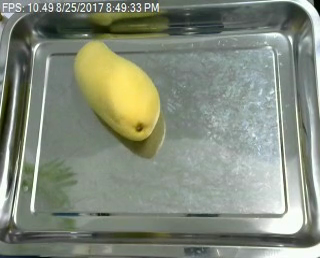Mango: (65, 38, 165, 143)
